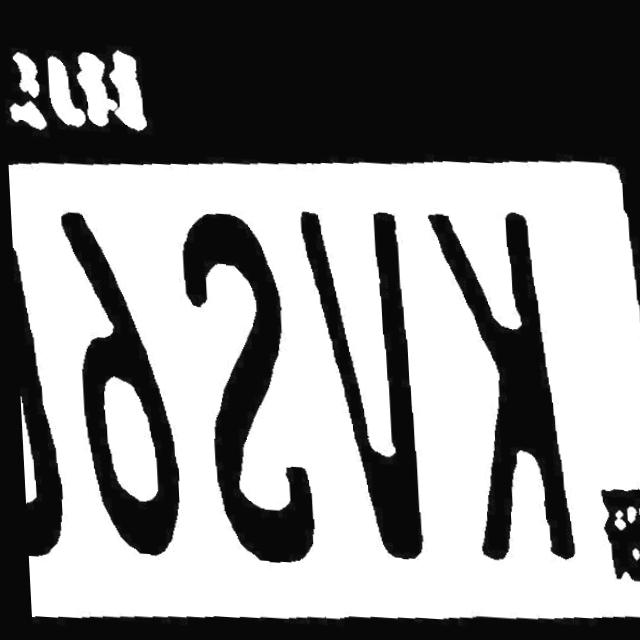6: (53, 208, 187, 562)
k: (423, 190, 568, 567)
s: (171, 198, 309, 587)
v: (301, 197, 430, 572)
